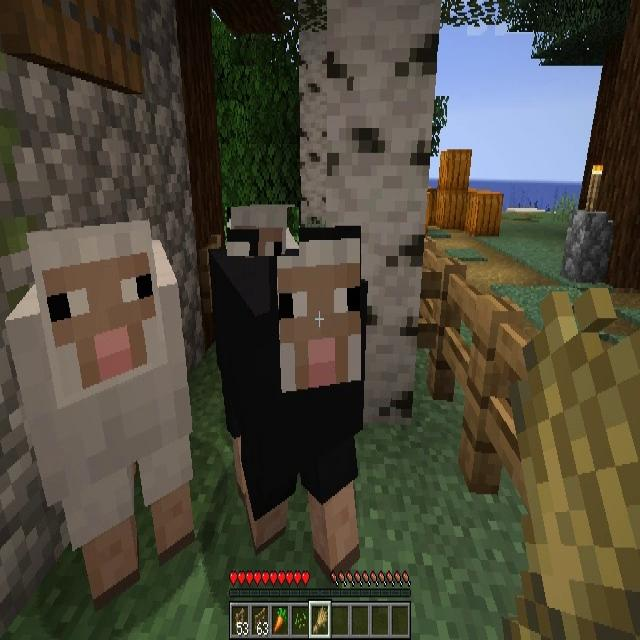sheep: (5, 231, 201, 608), (210, 231, 376, 575), (227, 207, 299, 256)
